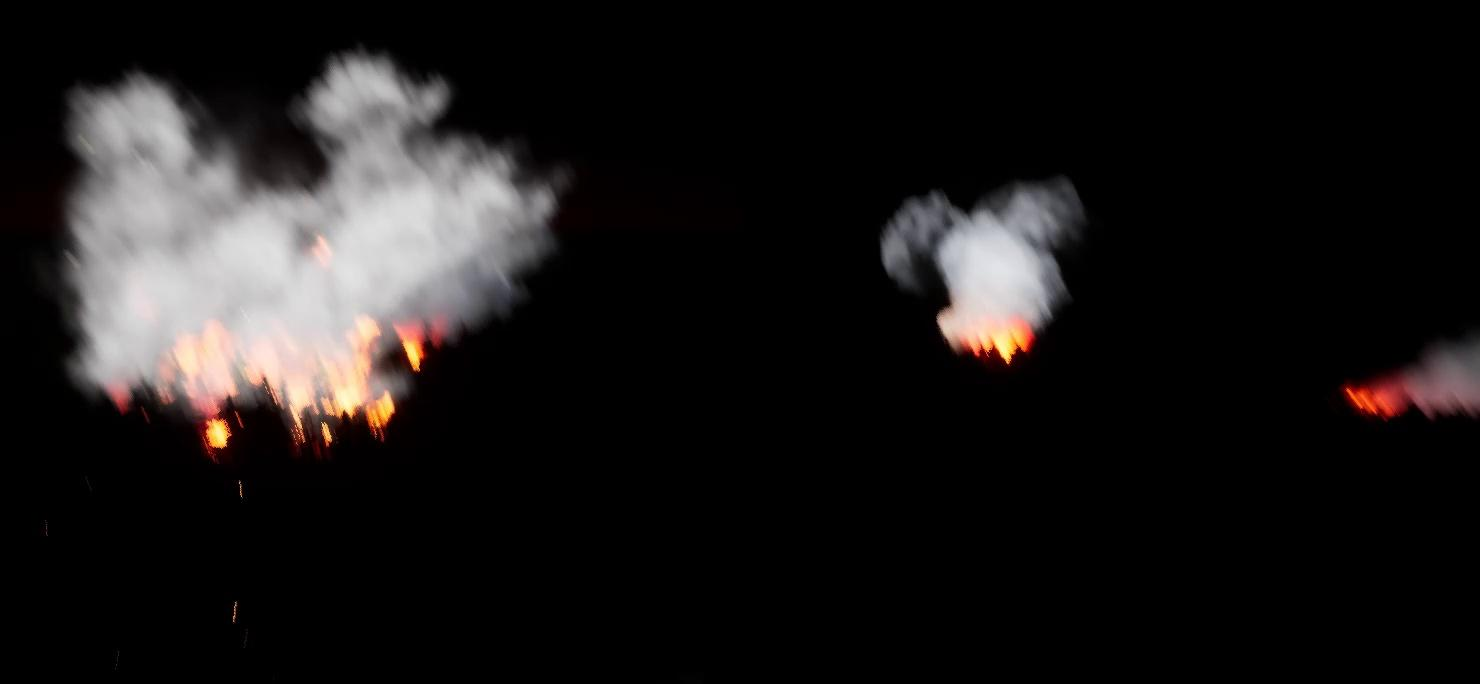fire: (112, 314, 458, 437), (942, 311, 1030, 365), (1340, 368, 1409, 417)
smoke: (65, 52, 560, 401), (868, 183, 1096, 342), (1389, 345, 1478, 429)
